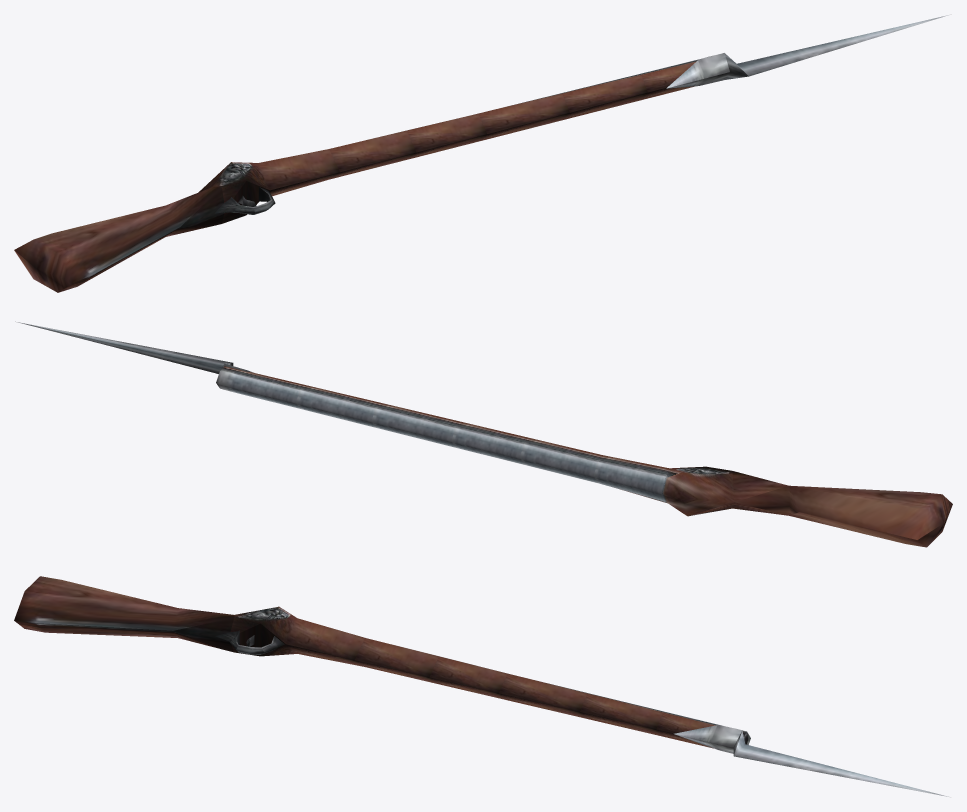
The model's file is musket_bayonet.fbx.
3 views of the same model, one above another, from view 1: azimuth 30°, elevation 25°; view 2: azimuth 150°, elevation 25°; view 3: azimuth 330°, elevation 25° (orthographic). The views are drawn at different scales.
Parts seen in each view (by area): view 1: musket_mesh, bayonet_mesh1; view 2: musket_mesh, bayonet_mesh1; view 3: musket_mesh, bayonet_mesh1.
Part boxes in pixels (left/top/right/bottom): musket_mesh: left=14, top=55, right=712, bottom=292; bayonet_mesh1: left=666, top=14, right=951, bottom=88; musket_mesh: left=216, top=366, right=952, bottom=547; bayonet_mesh1: left=15, top=321, right=252, bottom=373; musket_mesh: left=14, top=576, right=750, bottom=748; bayonet_mesh1: left=674, top=725, right=950, bottom=797.
Bounding box in the file's own units: 536 × 24.61 × 63.91.
1 material, 1 textured.
